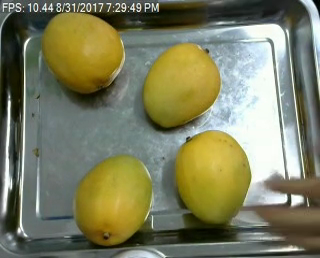Mango: (72, 152, 156, 248), (170, 129, 251, 226), (43, 8, 126, 96), (139, 41, 220, 127)
